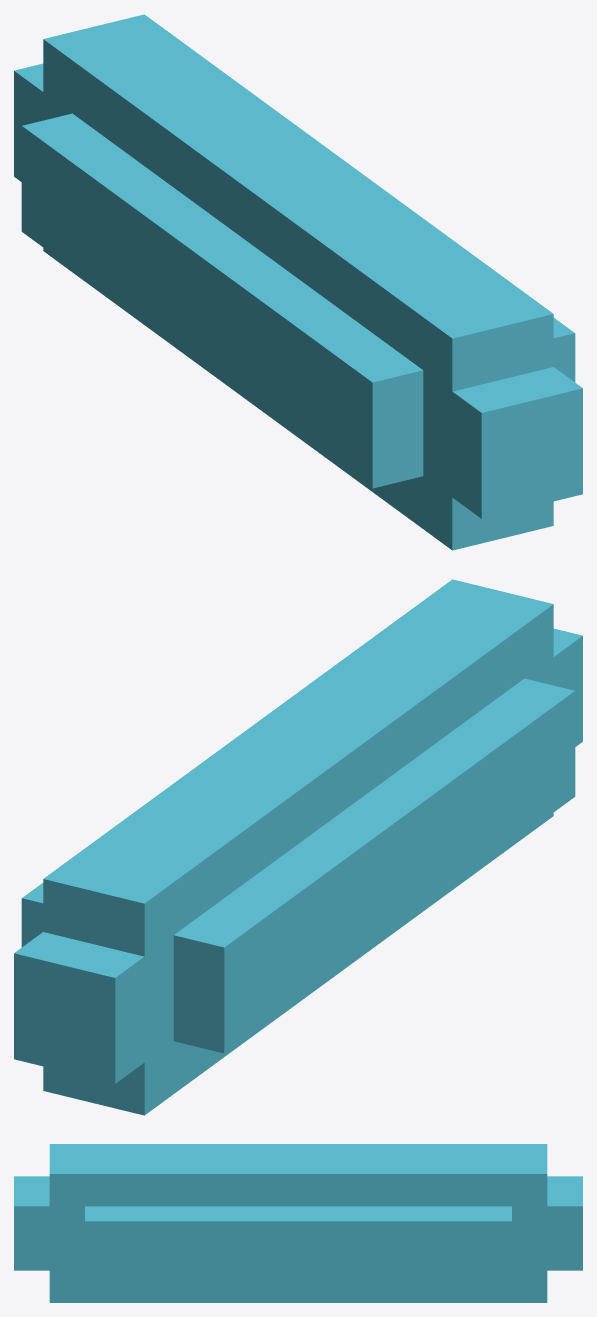
File: Blue Laser.obj
The picture shows the model from 3 angles, top to bottom: view 1: azimuth 30°, elevation 25°; view 2: azimuth 150°, elevation 25°; view 3: azimuth 270°, elevation 25°; orthographic projection. The views are drawn at different scales.
Parts seen in each view (by area): view 1: cube; view 2: cube; view 3: cube.
Part boxes in pixels (<box>): cube: <box>14,14,582,550</box>; cube: <box>14,579,582,1115</box>; cube: <box>14,1144,582,1302</box>.
Bounding box in the file's own units: 4 × 4 × 16.
